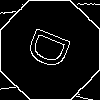D: (25, 25, 81, 76)
